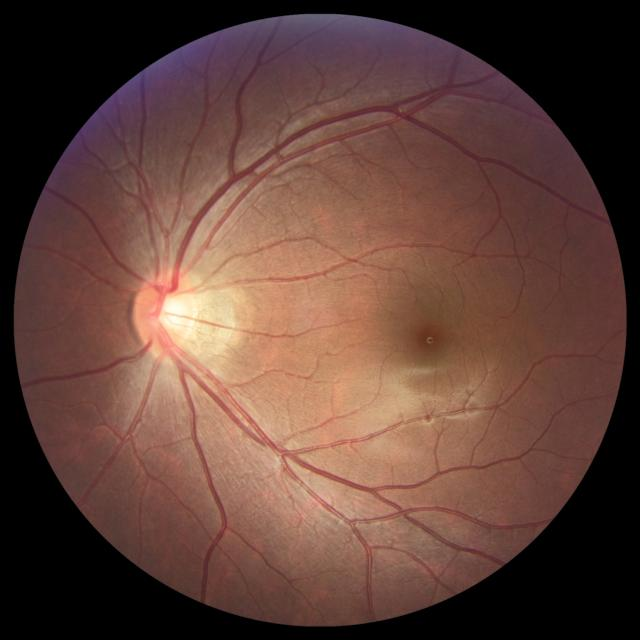OC: (152, 292, 186, 332)
OD: (133, 269, 197, 358)
